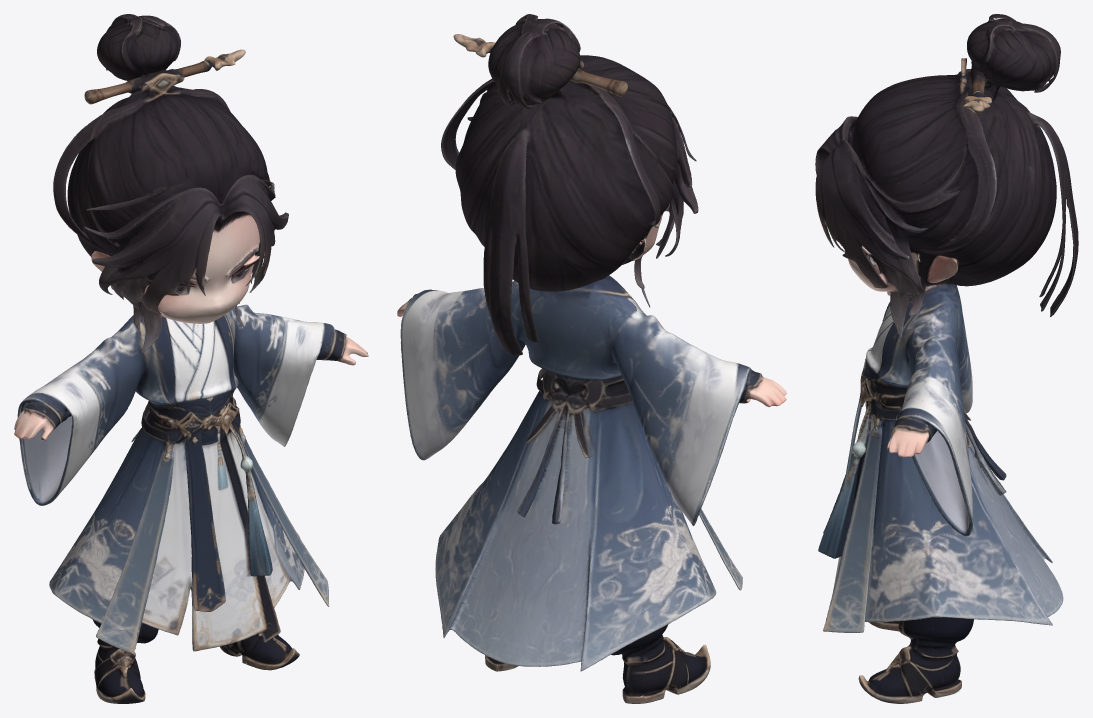
The model's file is 陆孤鸣.glb.
3 renders of one model, left to right at view 1: azimuth 30°, elevation 25°; view 2: azimuth 150°, elevation 25°; view 3: azimuth 270°, elevation 25°, orthographic. The views are drawn at different scales.
Bounding box in the file's own units: 1.11 × 1.9 × 0.708.
1 material, 1 textured.
